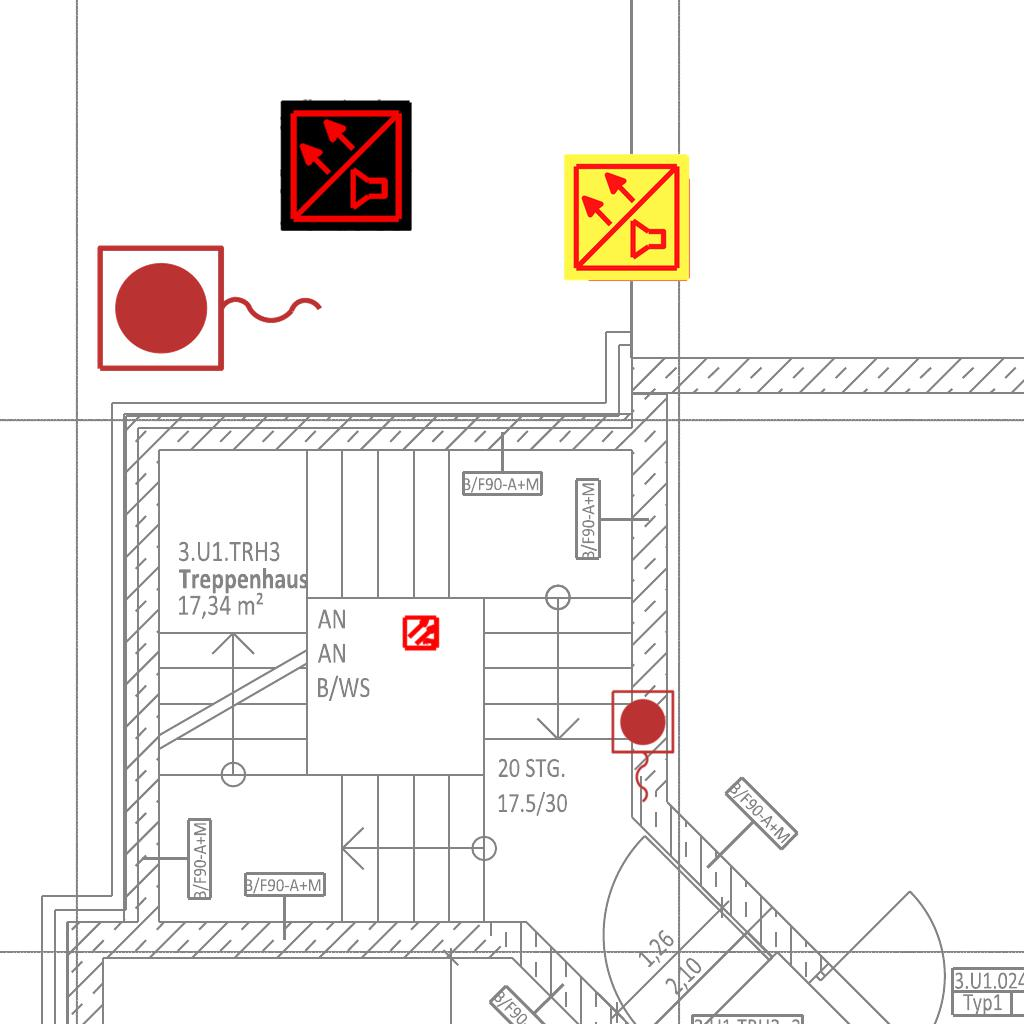OKW_Multisensormelder_(Kombination_optischer_Rauch-Kahlenmonoxid_Waerme-Melder): (561, 151, 693, 283), (280, 99, 412, 231)
OT_Multisensormelder_(Kombination_RMO_WMD): (394, 605, 450, 661)
Zugtaster: (89, 238, 333, 382), (606, 686, 678, 808)
